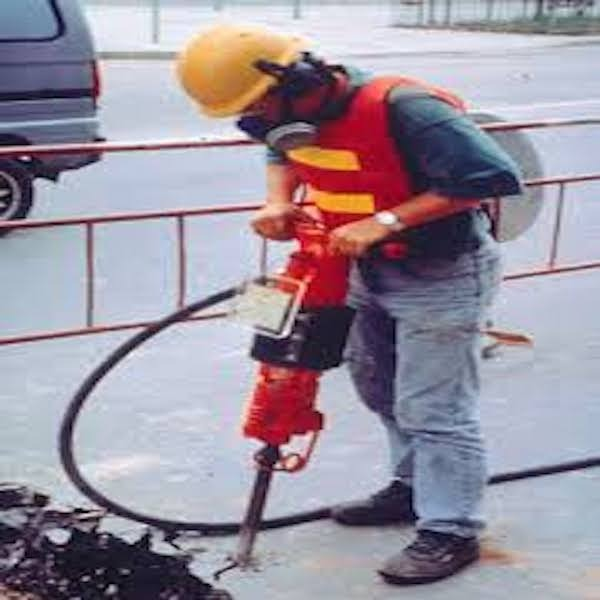helmet: (180, 20, 310, 120)
vest: (298, 74, 480, 254)
